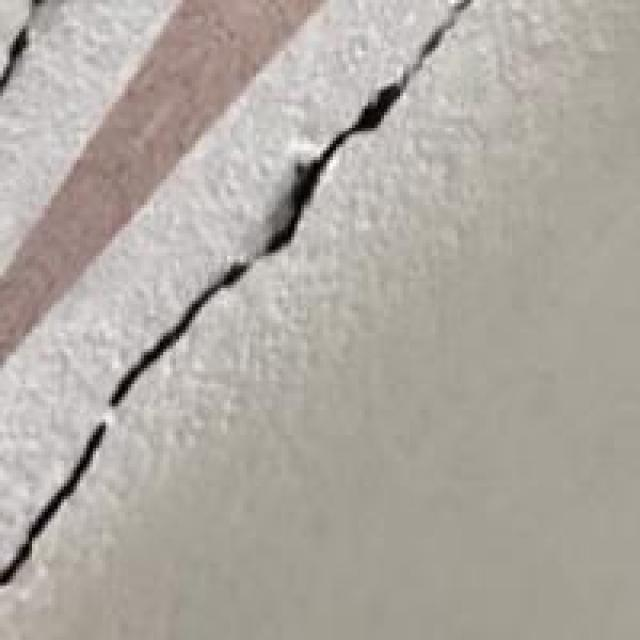crack: (0, 0, 477, 637)
